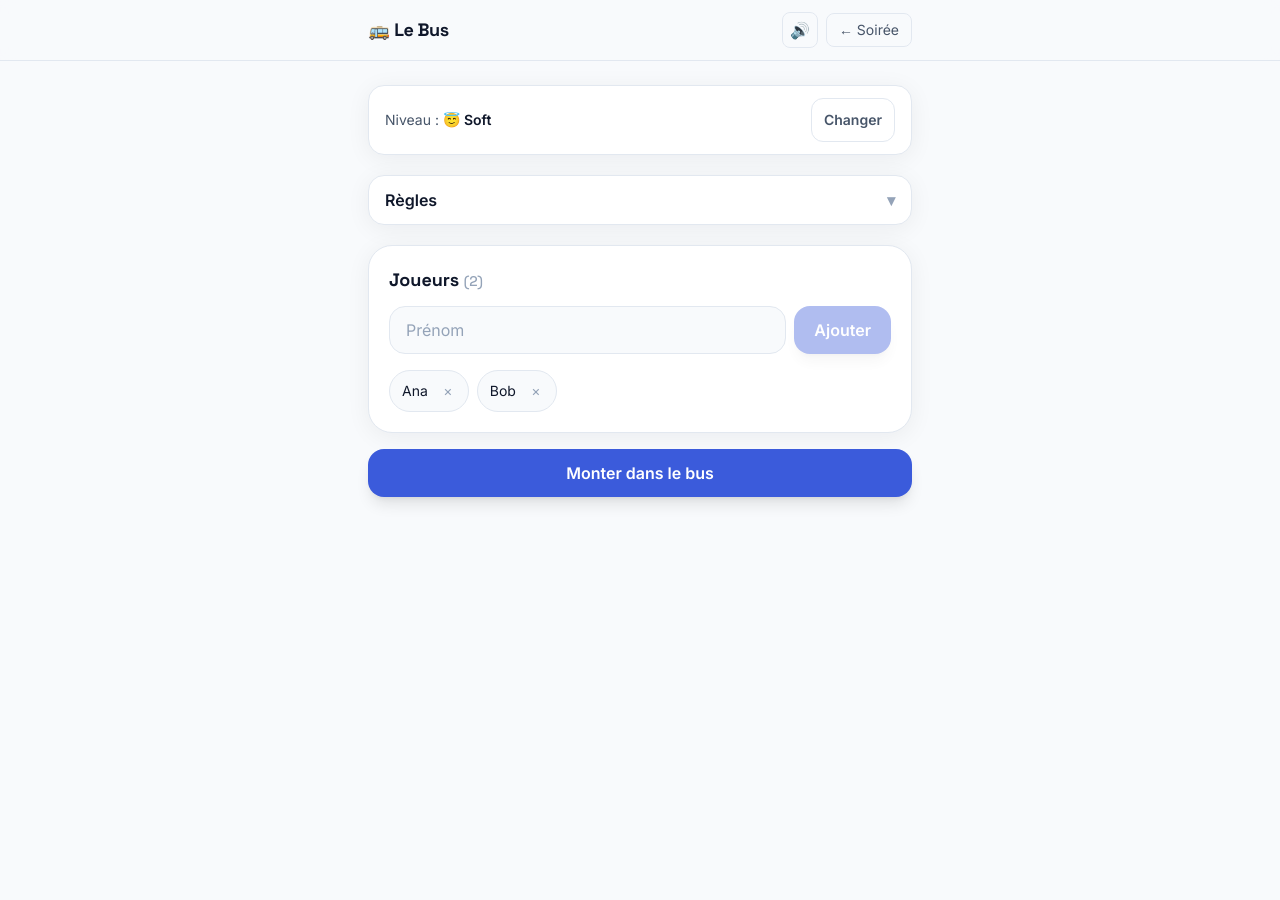
it: page d’un jeu de soirée › Bus : remélange en reprenant la partie quand il reste moins de 4 cartes
Click the button "Monter dans le bus" at (640, 473), box [368,449,912,497]
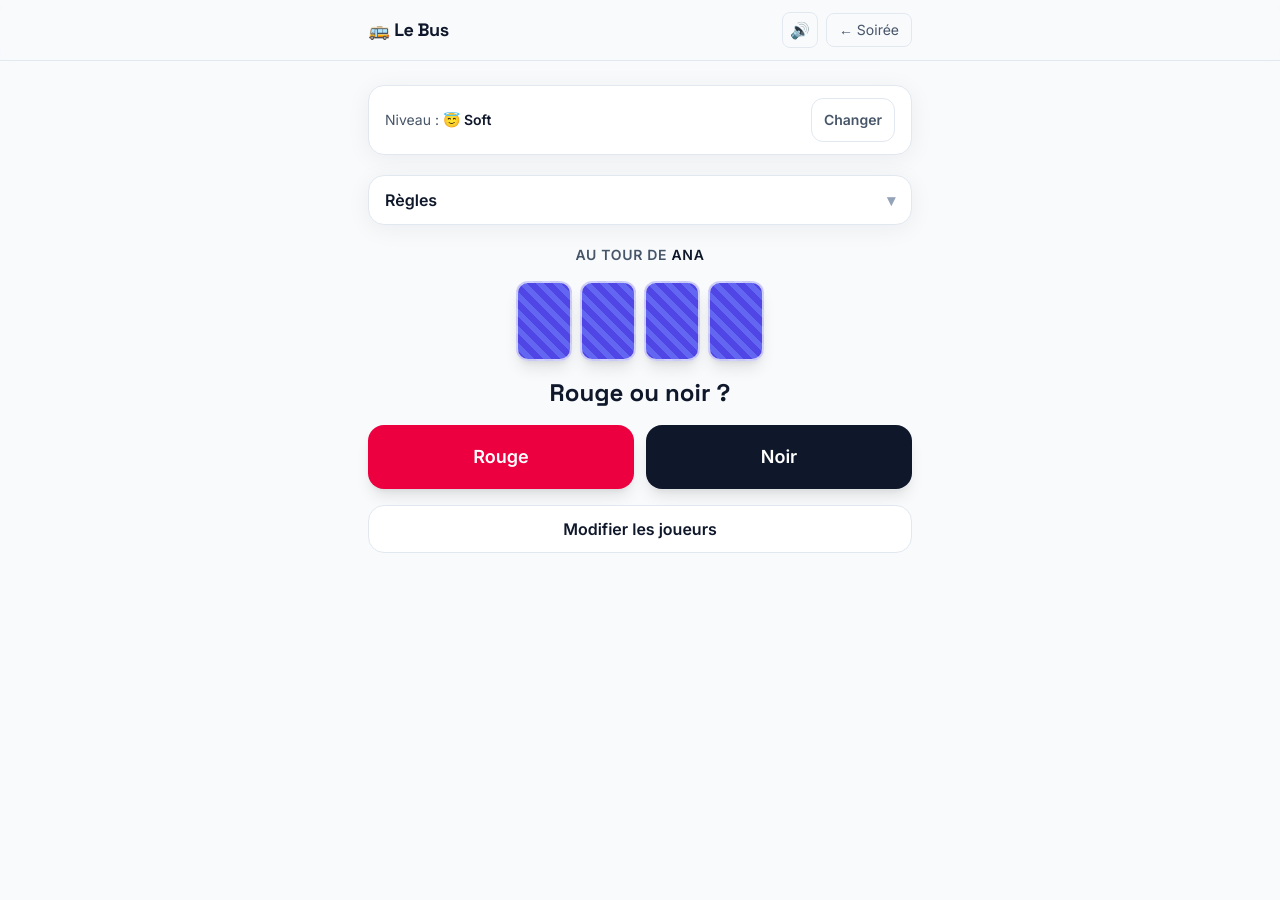
Click the button "Rouge" at (501, 457), box [368,425,634,489]
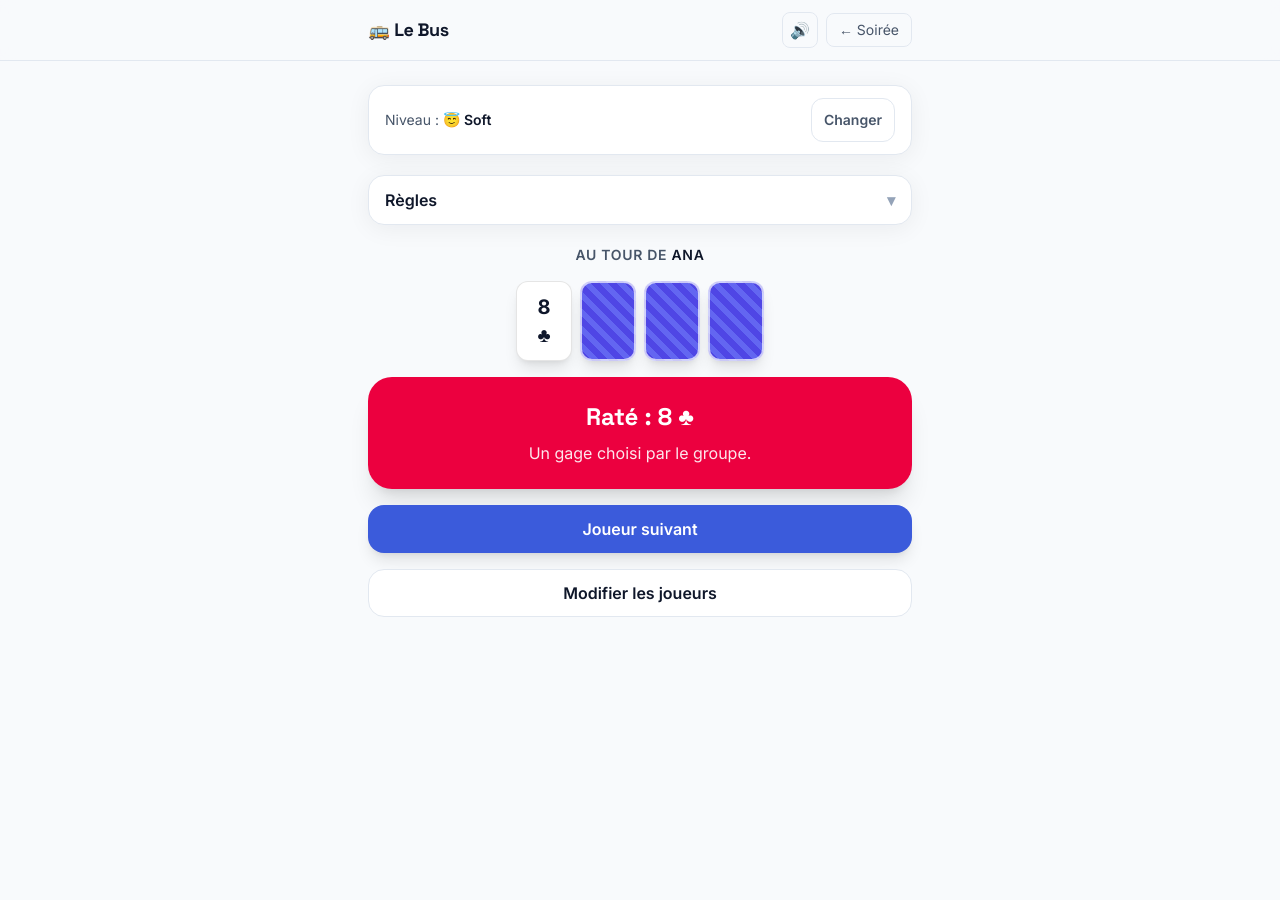
Expected: the text "Raté : 8 ♣︎" is shown, [586,401,694,432]
